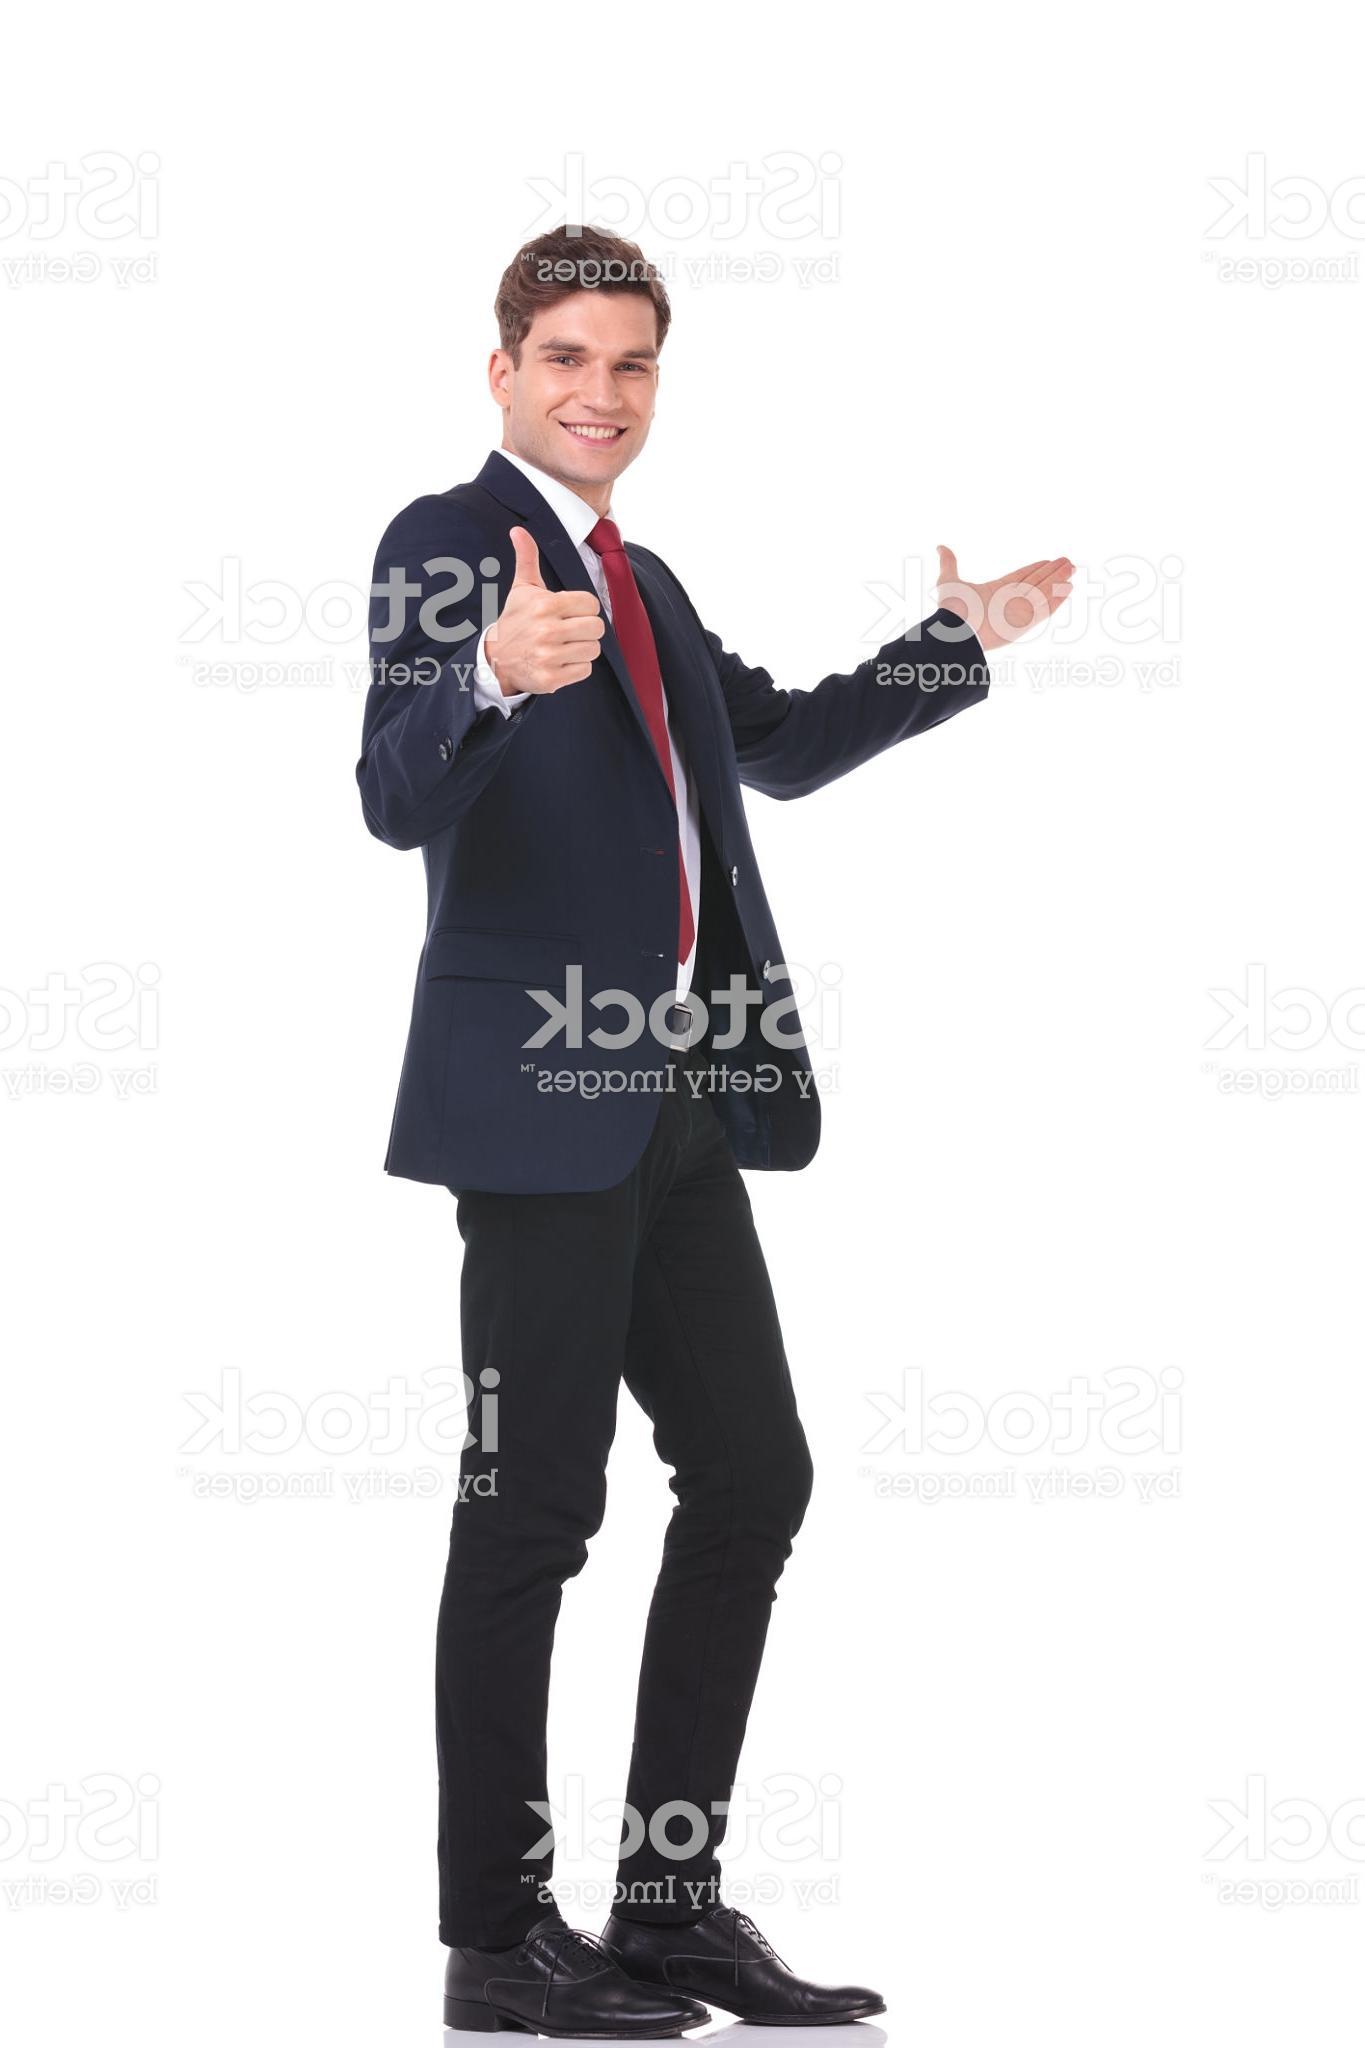thumbsup: (504, 522, 606, 694)
